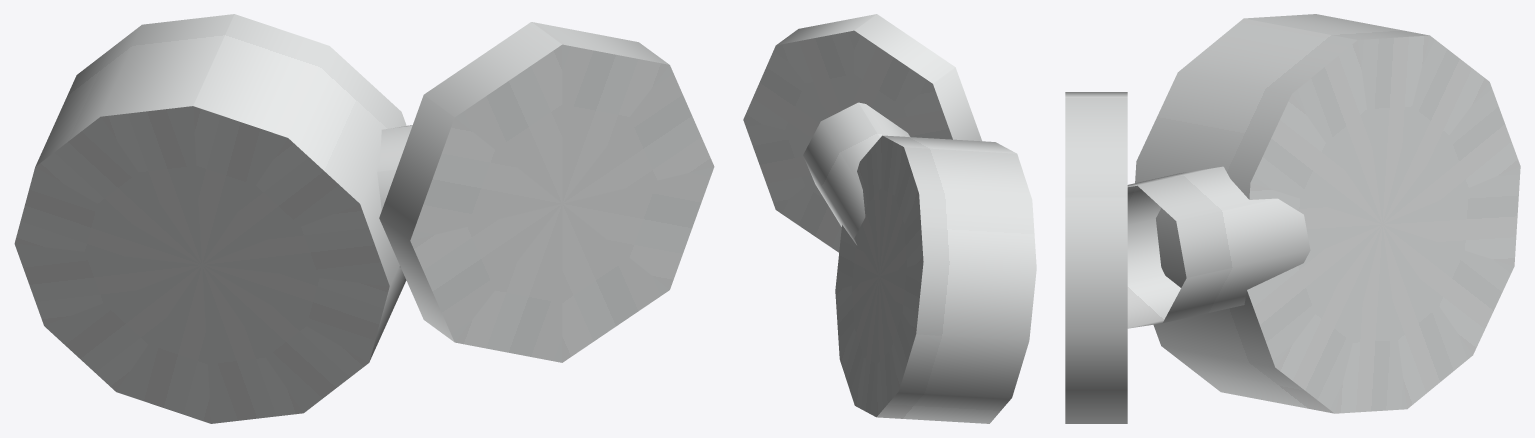
File: nycsignalarm_stub_110.obj
The picture shows the model from 3 angles, left to right: view 1: azimuth 30°, elevation 25°; view 2: azimuth 150°, elevation 25°; view 3: azimuth 270°, elevation 25°; orthographic projection. The views are drawn at different scales.
Visible parts, largest first — view 1: nycsignalarm_stub_110; view 2: nycsignalarm_stub_110; view 3: nycsignalarm_stub_110.
Part boxes in pixels (x1,y1,x2,y2): nycsignalarm_stub_110: (14,14,714,423); nycsignalarm_stub_110: (743,14,1036,423); nycsignalarm_stub_110: (1065,14,1520,423).
Bounding box in the file's own units: 0.61 × 0.4445 × 0.4511.
